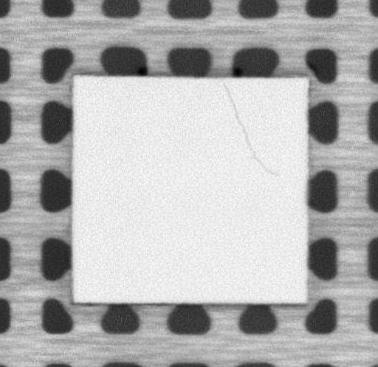DIE_CRACK: (222, 81, 275, 178)
